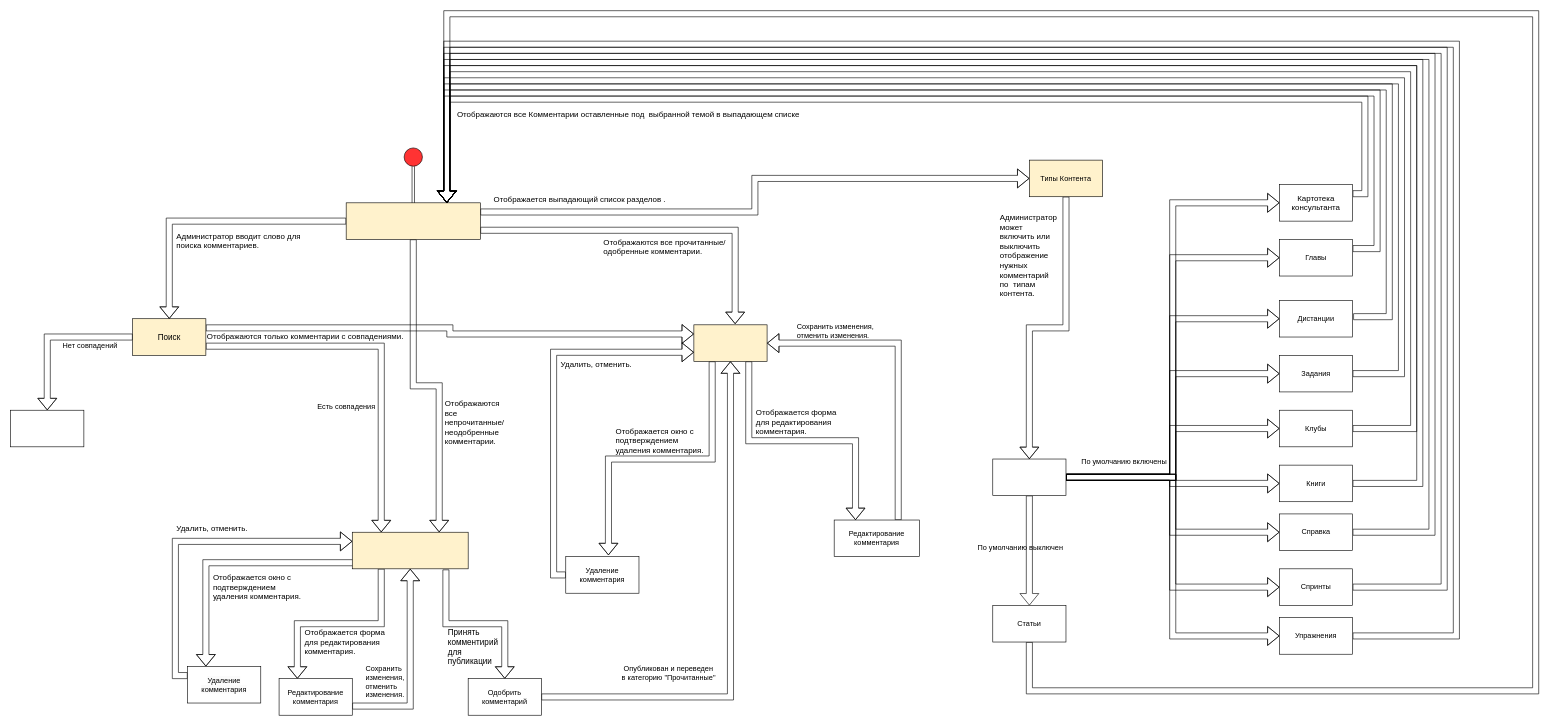
Image size: 1549x726. Some labels were removed from this diagram. The shapes that lost their labels are listed below. From the top down, each one's centre as x and y in pixels, then its label:
At point 413,220: "Отображается страница со списком комментариев.".
At point 730,342: "Прочитанные/Одобренные".
At point 47,428: "Пустая лента комментариев".
At point 1029,477: "Включить/выключить чекбоксы".
At point 410,550: "Непрочитанные/Неодобренные".
